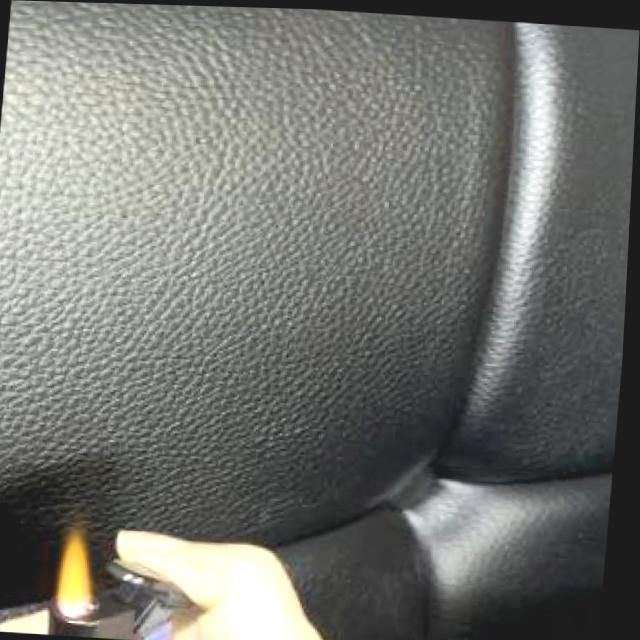fire: (58, 529, 107, 616)
